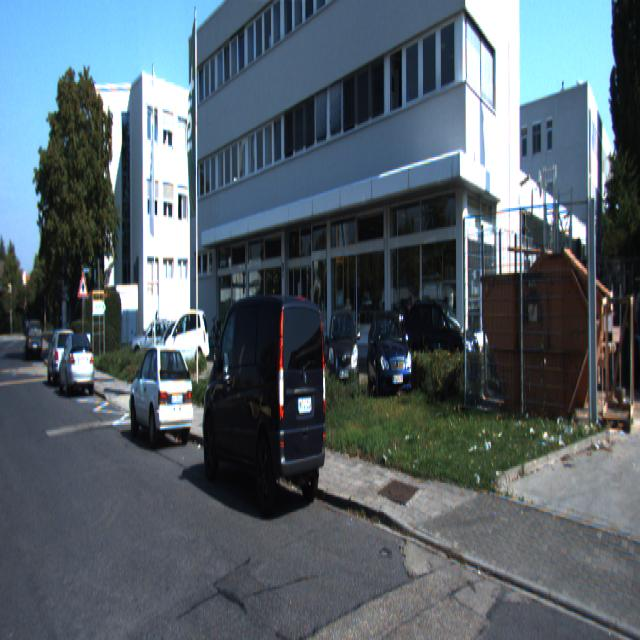Car: (198, 284, 329, 530), (127, 340, 195, 452), (366, 308, 414, 416), (322, 303, 358, 409), (160, 307, 210, 376), (21, 320, 38, 363)
